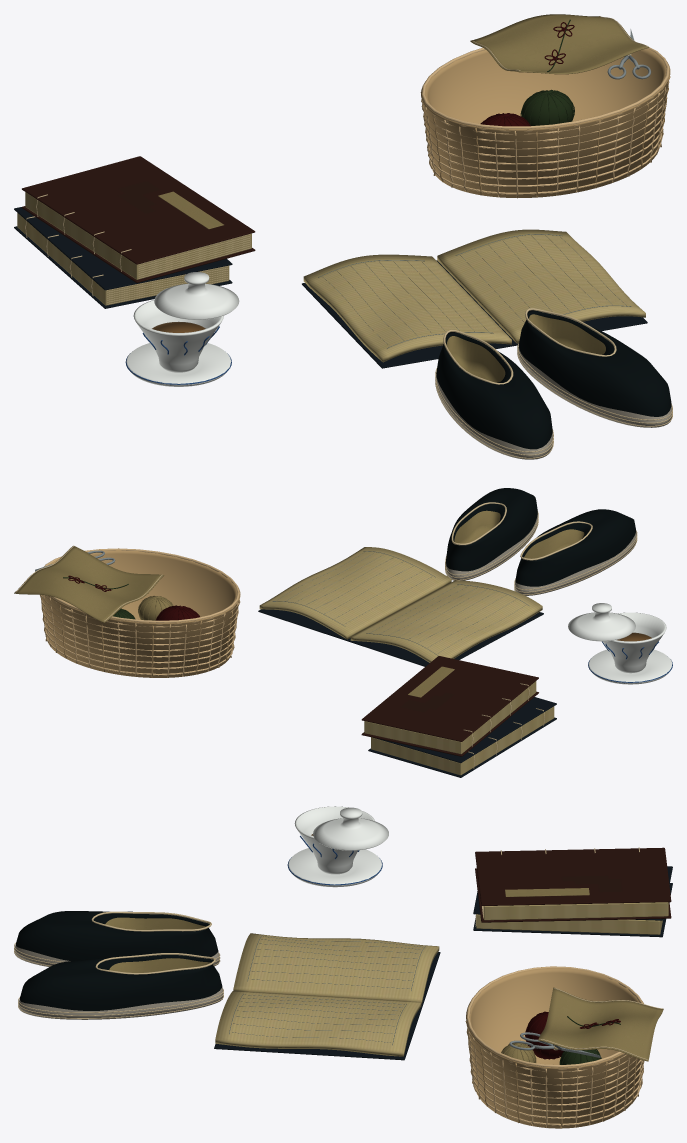
File: gpt-kangxiaojian-v1.glb
The picture shows the model from 3 angles, top to bottom: view 1: azimuth 30°, elevation 25°; view 2: azimuth 150°, elevation 25°; view 3: azimuth 270°, elevation 25°; orthographic projection. The views are drawn at different scales.
Parts seen in each view (by area): view 1: 22_摊书, 23_针线笸箩, 22_合书_2, 24_软鞋_右, 24_软鞋_左, 23_半块绣片, 22_合书_1, 21_盖碗_碗身, 21_盖碗_碗盖, 21_盖碗_碗托, 23_线团_2; view 2: 22_摊书, 23_针线笸箩, 22_合书_2, 24_软鞋_左, 24_软鞋_右, 23_半块绣片, 22_合书_1, 21_盖碗_碗身, 21_盖碗_碗盖, 21_盖碗_碗托, 23_线团_3, 23_线团_1; view 3: 22_摊书, 23_针线笸箩, 22_合书_2, 24_软鞋_右, 24_软鞋_左, 23_半块绣片, 22_合书_1, 21_盖碗_碗盖, 21_盖碗_碗托, 21_盖碗_碗身, 23_线团_1, 23_小剪.
Part boxes in pixels (x1,y1,x2,y2): 22_摊书: [302, 229, 647, 368]; 23_针线笸箩: [420, 47, 670, 198]; 22_合书_2: [22, 156, 255, 282]; 24_软鞋_右: [517, 308, 672, 427]; 24_软鞋_左: [435, 329, 553, 459]; 23_半块绣片: [470, 14, 649, 74]; 22_合书_1: [14, 207, 232, 308]; 21_盖碗_碗身: [133, 300, 223, 372]; 21_盖碗_碗盖: [154, 272, 239, 319]; 21_盖碗_碗托: [125, 343, 231, 386]; 23_线团_2: [520, 89, 574, 125]; 22_摊书: [258, 547, 543, 666]; 23_针线笸箩: [40, 548, 240, 677]; 22_合书_2: [361, 656, 538, 756]; 24_软鞋_左: [514, 509, 637, 595]; 24_软鞋_右: [445, 488, 538, 580]; 23_半块绣片: [14, 545, 163, 622]; 22_合书_1: [368, 697, 556, 777]; 21_盖碗_碗身: [602, 612, 666, 673]; 21_盖碗_碗盖: [568, 603, 635, 641]; 21_盖碗_碗托: [588, 649, 672, 684]; 23_线团_3: [138, 595, 173, 620]; 23_线团_1: [155, 605, 199, 620]; 22_摊书: [214, 933, 440, 1060]; 23_针线笸箩: [465, 966, 644, 1128]; 22_合书_2: [475, 847, 671, 922]; 24_软鞋_右: [18, 953, 223, 1019]; 24_软鞋_左: [14, 911, 220, 966]; 23_半块绣片: [538, 987, 663, 1061]; 22_合书_1: [473, 866, 672, 937]; 21_盖碗_碗盖: [313, 807, 388, 850]; 21_盖碗_碗托: [287, 848, 382, 887]; 21_盖碗_碗身: [294, 806, 374, 874]; 23_线团_1: [525, 1011, 563, 1059]; 23_小剪: [509, 1032, 600, 1057].
Size of the model in its own units: 0.8499 by 0.1263 by 0.8309.
Materials: 16 (7 with a texture image).
